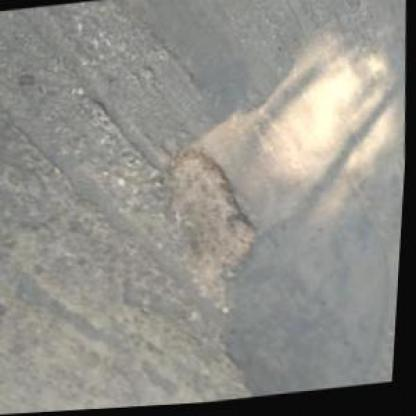pothole: (155, 145, 269, 322)
